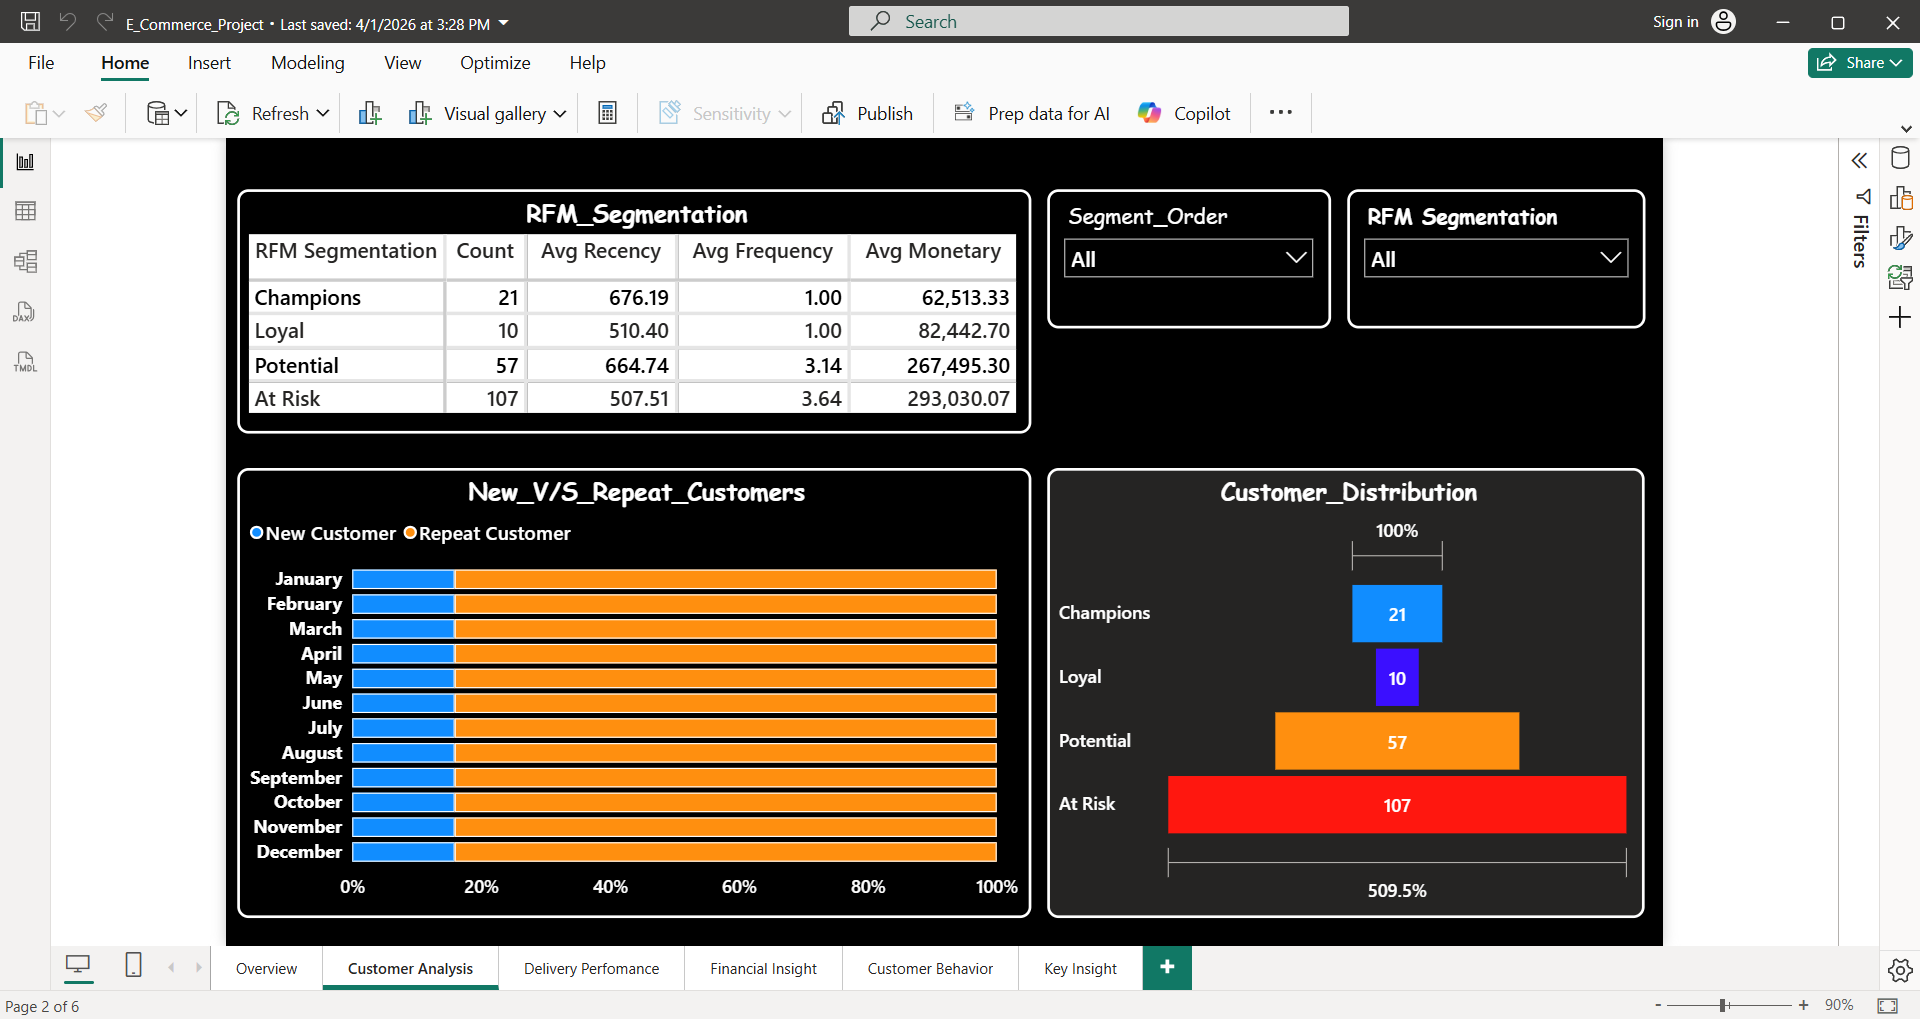

What the dashboard file says about the page in this screenshot:
{"tool":"powerbi","page":{"name":"Customer Analysis","canvas":[1280,720],"ordinal":1},"visuals":[{"type":"pivotTable","title":"RFM_Segmentation","fields":{"Values":["Customer Summary.Customers","Customer Summary.Avg Recency","Customer Summary.Avg Frequency","Customer Summary.Avg Monetary"],"Rows":["RFM_Segment_Table.RFM Segmentation"]},"box":[10.1,46.2,707,217.9],"z":0},{"type":"funnel","title":"Customer_Distribution","fields":{"Category":["RFM_Segment_Table.RFM Segmentation"],"Y":["Customer Summary.Customers"]},"box":[731.5,294.3,532.4,401.1],"z":1000},{"type":"hundredPercentStackedBarChart","title":"New_V/S_Repeat_Customers","fields":{"Y":["Customer Summary.Customers"],"Series":["Customer Summary.Customer Type"],"Category":["E_Commerce_Dataset.Order_Date.Variation.Date Hierarchy.Month"]},"box":[10.1,294.3,707,401.1],"z":2000},{"type":"slicer","fields":{"Values":["RFM_Segment_Table.Segment_Order"]},"box":[731.5,46.2,252.5,124.1],"z":3000},{"type":"slicer","fields":{"Values":["RFM_Segment_Table.RFM Segmentation"]},"box":[998.4,46.2,265.5,124.1],"z":4000}]}

Visuals, with their boxes on the page's 1280x720 design canvas (x1, y1, x2, y2). These are canvas units, not pixel positions in the 1920x1019 screenshot, which may show the page scaled, cropped or inside an application window:
"RFM_Segmentation" pivotTable: [10, 46, 717, 264]
"Customer_Distribution" funnel: [732, 294, 1264, 695]
"New_V/S_Repeat_Customers" hundredPercentStackedBarChart: [10, 294, 717, 695]
slicer - RFM_Segment_Table.Segment_Order: [732, 46, 984, 170]
slicer - RFM_Segment_Table.RFM Segmentation: [998, 46, 1264, 170]
